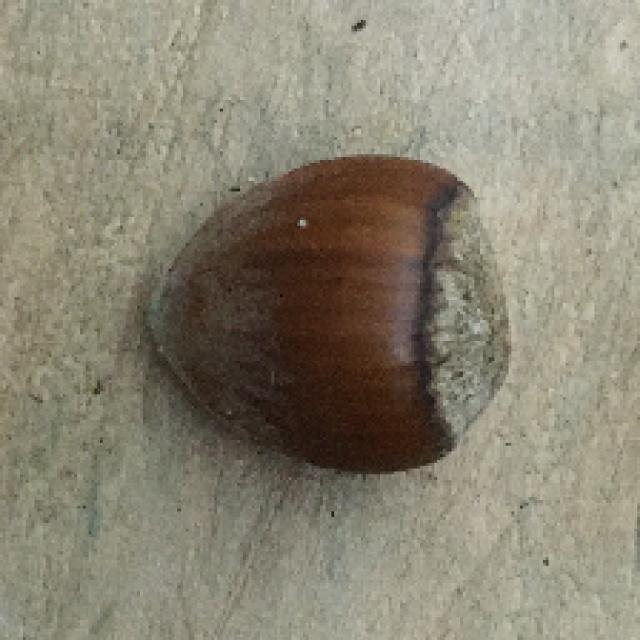qualityHazelnut: (139, 138, 514, 486)
